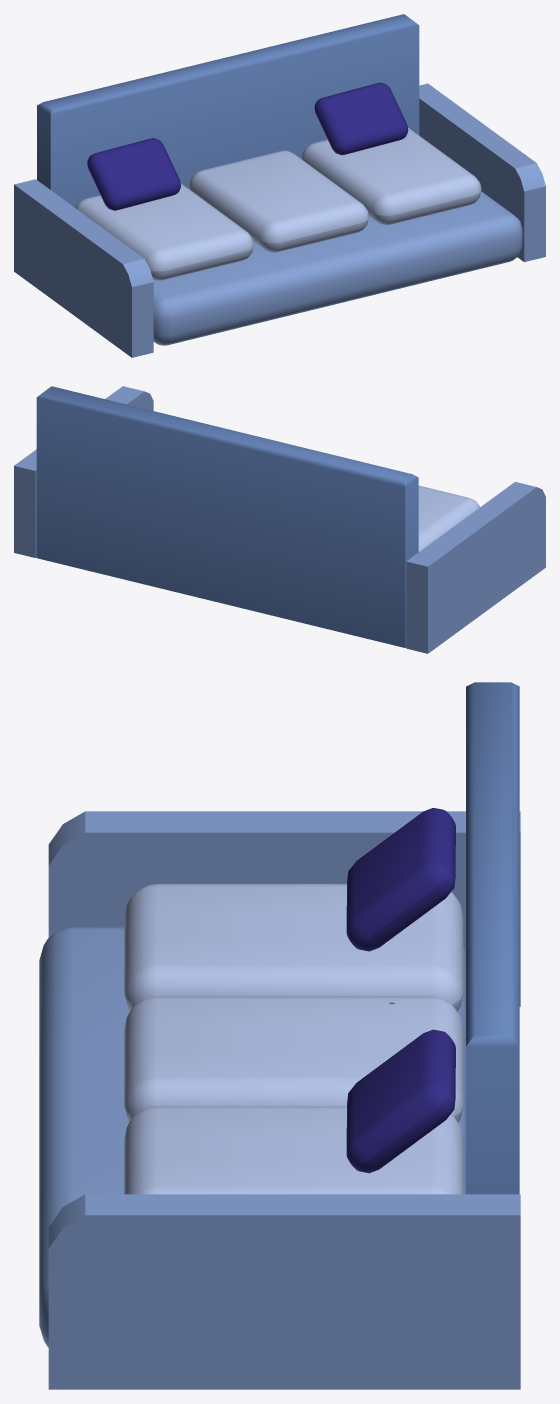
Rendered from sofa.glb.
3 renders of one model, top to bottom at view 1: azimuth 30°, elevation 25°; view 2: azimuth 150°, elevation 25°; view 3: azimuth 270°, elevation 25°, orthographic. The views are drawn at different scales.
Visible parts, largest first — view 1: Box003, ChamferBox001, Box001 (×2), ChamferBox003, ChamferBox004, ChamferBox002, ChamferBox008, ChamferBox007; view 2: Box003, Box001 (×2), ChamferBox002; view 3: Box001 (×2), ChamferBox002, ChamferBox003, Box003, ChamferBox001, ChamferBox004, ChamferBox007, ChamferBox008.
Part boxes in pixels (left/top/right/bottom): Box003: left=37, top=14, right=419, bottom=207; ChamferBox001: left=153, top=191, right=522, bottom=345; Box001 (×2): left=14, top=83, right=545, bottom=357; ChamferBox003: left=189, top=150, right=368, bottom=252; ChamferBox004: left=302, top=127, right=481, bottom=225; ChamferBox002: left=75, top=183, right=253, bottom=280; ChamferBox008: left=314, top=82, right=408, bottom=155; ChamferBox007: left=87, top=138, right=180, bottom=210; Box003: left=36, top=386, right=418, bottom=647; Box001 (×2): left=14, top=386, right=545, bottom=653; ChamferBox002: left=418, top=485, right=479, bottom=551; Box001 (×2): left=48, top=811, right=520, bottom=1389; ChamferBox002: left=124, top=884, right=463, bottom=1011; ChamferBox003: left=124, top=996, right=463, bottom=1122; Box003: left=466, top=682, right=519, bottom=1194; ChamferBox001: left=39, top=926, right=465, bottom=1347; ChamferBox004: left=124, top=1106, right=463, bottom=1194; ChamferBox007: left=346, top=808, right=455, bottom=951; ChamferBox008: left=346, top=1029, right=455, bottom=1173.
Bounding box in the file's own units: 0.1115 × 0.0424 × 0.0562.
